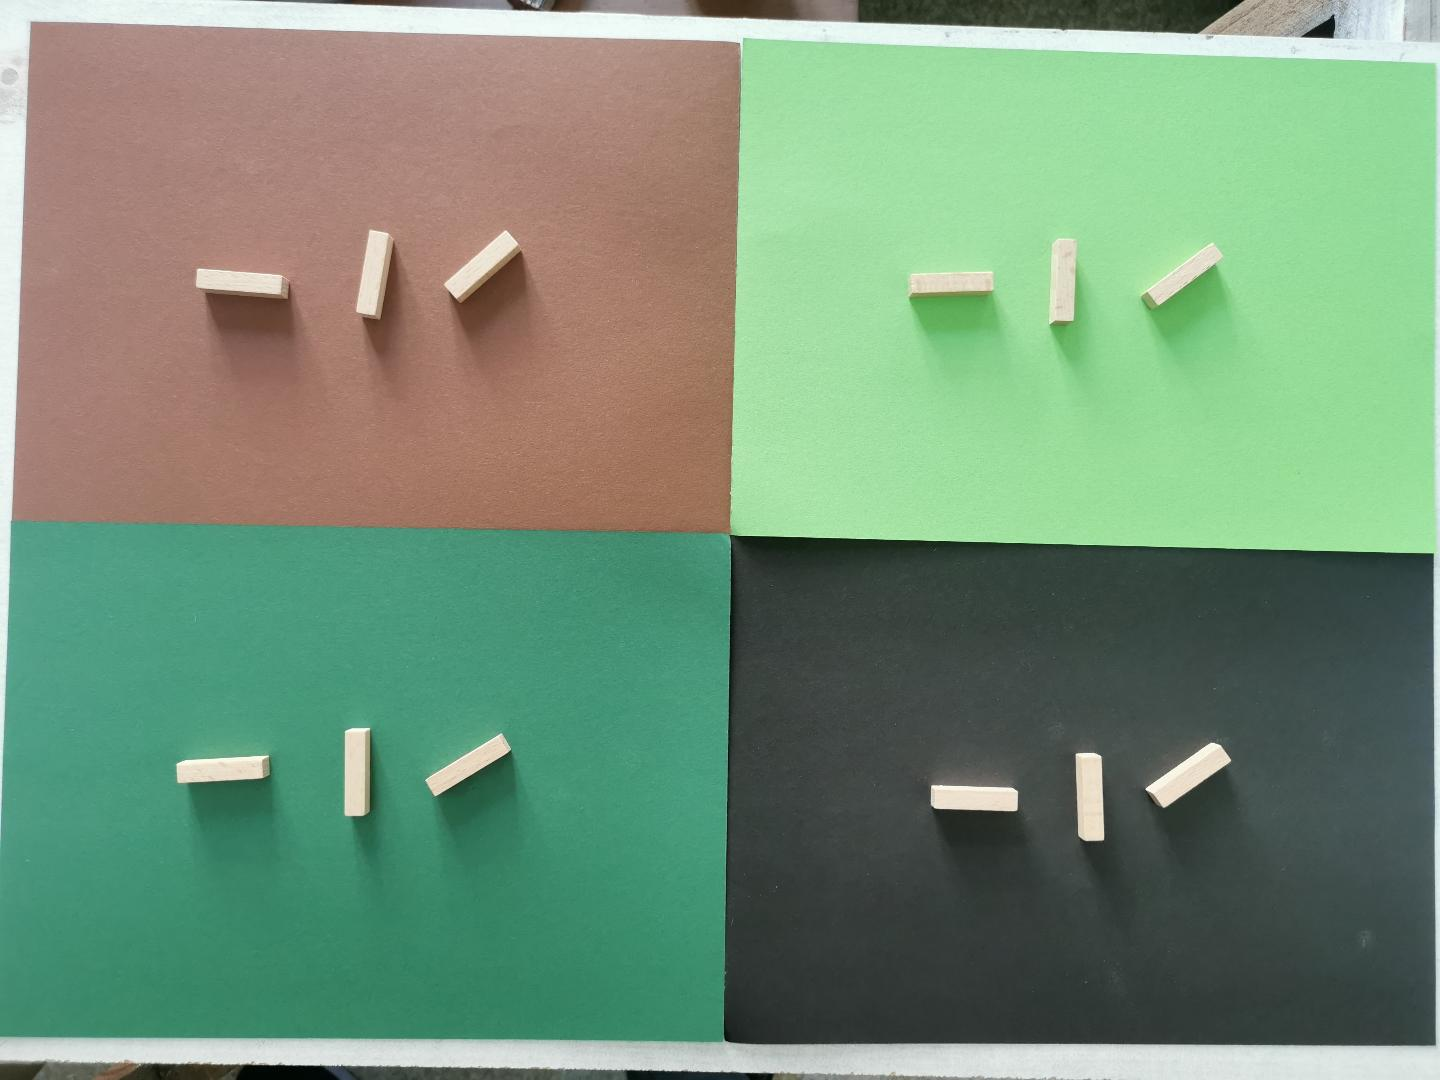jenga: (1147, 742, 1231, 808), (425, 734, 511, 796), (444, 230, 520, 301), (1142, 245, 1223, 310), (357, 230, 393, 318), (197, 268, 289, 298), (1075, 753, 1106, 841), (177, 757, 270, 785), (1049, 239, 1077, 323), (344, 728, 371, 816), (931, 785, 1018, 812), (908, 272, 993, 298)
